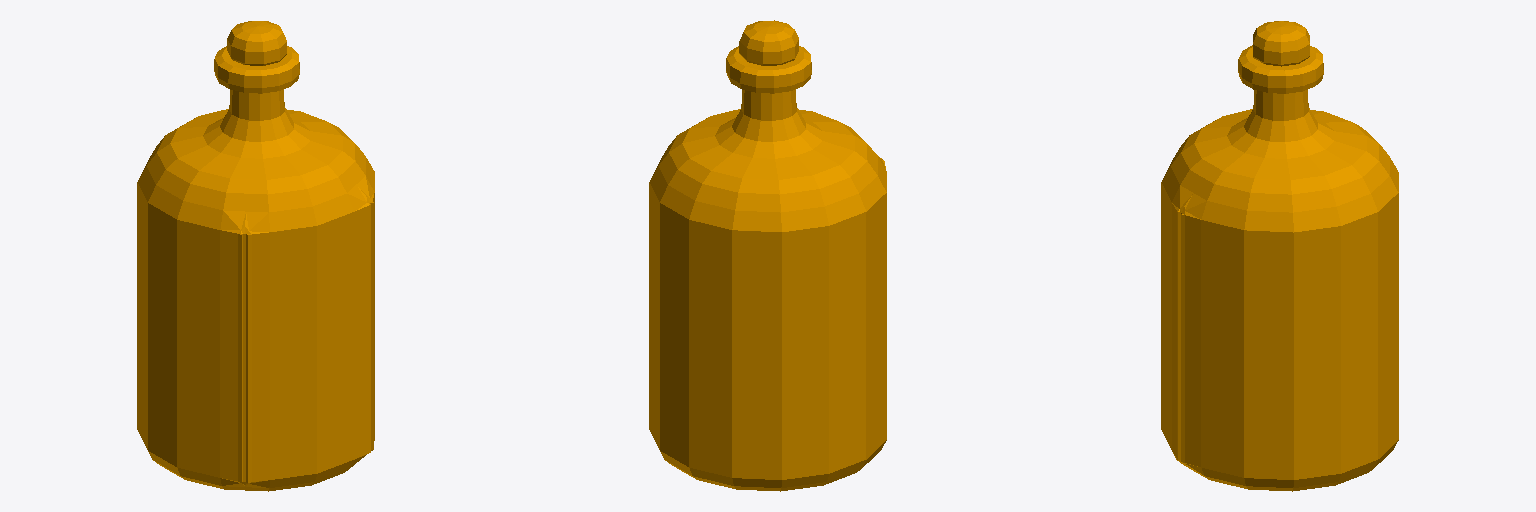
robot.urdf — mesh_object:
<robot name="mesh_object">
            <link name="base">
                <visual>
                    <geometry>
                        <mesh filename="jar_0.obj" scale="1 1 1" />
                    </geometry>
                </visual>
                <collision>
                    <geometry>
                        <mesh filename="jar_0.obj" scale="1 1 1" />
                    </geometry>
                </collision>
                <inertial>
                    <origin xyz="0.000000 0.000000 0.056144" rpy="0 0 0" />
                    <mass value="0.5" />
                    <inertia ixx="0.01" iyy="0.01" izz="0.01" ixy="0" ixz="0" iyz="0" />
                </inertial>
            </link>
            </robot>

--- Render facts (derived) ---
Views: 3 orthographic renders of the robot side by side, from view 1: azimuth 30°, elevation 25°; view 2: azimuth 150°, elevation 25°; view 3: azimuth 270°, elevation 25°.
Robot: mesh_object — 1 links, 0 joints (none); root link base; default pose: every joint at zero.
Links seen in each view (by area): view 1: base; view 2: base; view 3: base.
Link boxes in pixels (x1,y1,x2,y2): base: (137,21,374,491); base: (649,20,886,491); base: (1161,21,1398,491).
Bounding box of the posed robot: 0.0573 × 0.057 × 0.1123 m (x, y, z).
Meshes: 1 distinct files referenced, 1 mesh visuals loaded (1 OBJ).
